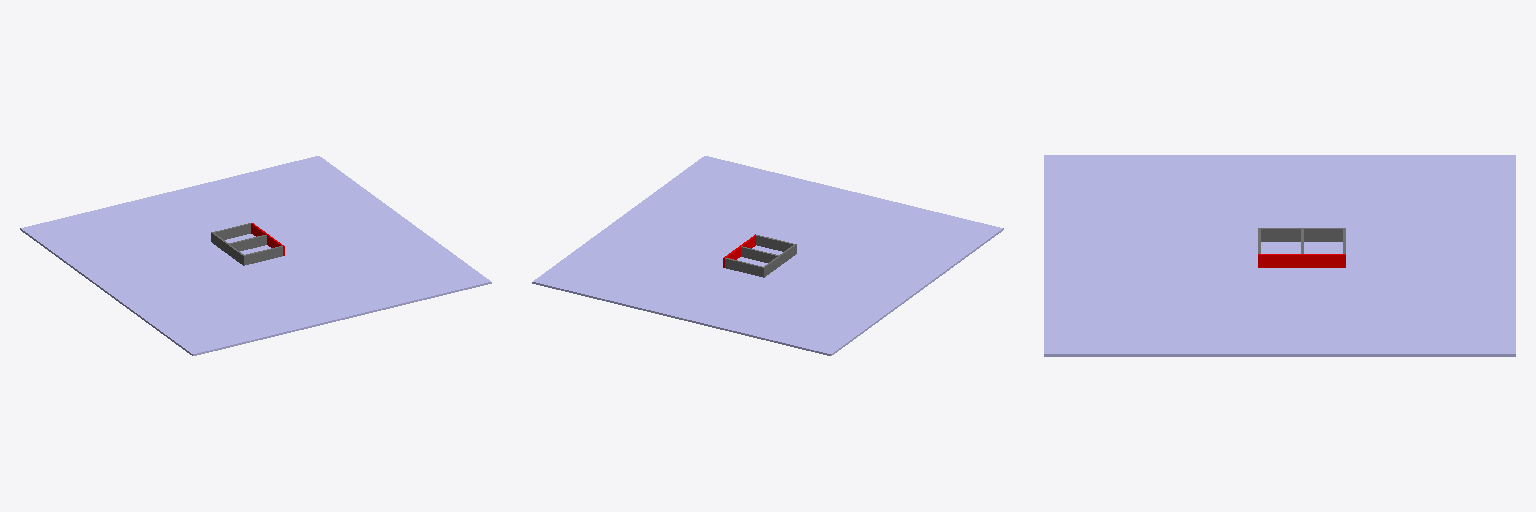
robot.urdf — move_twice:
<?xml version="1.0"?>
<!-- created with Phobos 1.0.1 "Capricious Choutengan" -->
  <robot name="move_twice">

    <link name="base_link">
      <inertial>
        <origin xyz="0 0 0" rpy="0 0 0"/>
        <mass value="0.001"/>
        <inertia ixx="0.001" ixy="0" ixz="0" iyy="0.001" iyz="0" izz="0.001"/>
      </inertial>
      <visual name="visual_box_base">
        <origin xyz="0 0 0" rpy="0 0 0"/>
        <geometry>
          <box size="31.999 31.999 0.199"/>
        </geometry>
        <material name="lavender"/>
      </visual>
      <collision name="collision_box_base">
        <origin xyz="0 0 0" rpy="0 0 0"/>
        <geometry>
          <box size="31.999 31.999 0.199"/>
        </geometry>
      </collision>
    </link>

    <link name="goal">
      <inertial>
        <origin xyz="0 0 0" rpy="0 0 0"/>
        <mass value="0.001"/>
        <inertia ixx="0.001" ixy="0" ixz="0" iyy="0.001" iyz="0" izz="0.001"/>
      </inertial>
    </link>

    <link name="link_0_joint_0">
      <inertial>
        <origin xyz="0 0 0" rpy="0 0 0"/>
        <mass value="0.001"/>
        <inertia ixx="0.001" ixy="0" ixz="0" iyy="0.001" iyz="0" izz="0.001"/>
      </inertial>
      <visual name="visual_mesh_2_link_0">
        <origin xyz="0 0 0" rpy="0 0 0"/>
        <geometry>
          <mesh filename="file://[local-path]/ba/puzzle-generator/puzzles/move_twice/meshes/stl/robot.stl" scale="1.0 1.0 1.0"/>
        </geometry>
        <material name="green"/>
      </visual>
      <collision name="collision_mesh_2_link_0">
        <origin xyz="0 0 0" rpy="0 0 0"/>
        <geometry>
          <mesh filename="file://[local-path]/ba/puzzle-generator/puzzles/move_twice/meshes/stl/robot.001.stl" scale="1.0 1.0 1.0"/>
        </geometry>
      </collision>
    </link>

    <link name="link_0_joint_0.001">
      <inertial>
        <origin xyz="0 0 0" rpy="0 0 0"/>
        <mass value="0.001"/>
        <inertia ixx="0.001" ixy="0" ixz="0" iyy="0.001" iyz="0" izz="0.001"/>
      </inertial>
      <visual name="visual_mesh_2_link_0.001">
        <origin xyz="0 0 0" rpy="0 0 0"/>
        <geometry>
          <mesh filename="file://[local-path]/ba/puzzle-generator/puzzles/move_twice/meshes/stl/robot.002.stl" scale="1.0 1.0 1.0"/>
        </geometry>
        <material name="green_translucent"/>
      </visual>
    </link>

    <link name="link_0_joint_1">
      <inertial>
        <origin xyz="0 0 0" rpy="0 0 0"/>
        <mass value="0.001"/>
        <inertia ixx="0.001" ixy="0" ixz="0" iyy="0.001" iyz="0" izz="0.001"/>
      </inertial>
    </link>

    <link name="link_0_joint_1.001">
      <inertial>
        <origin xyz="0 0 0" rpy="0 0 0"/>
        <mass value="0.001"/>
        <inertia ixx="0.001" ixy="0" ixz="0" iyy="0.001" iyz="0" izz="0.001"/>
      </inertial>
    </link>

    <link name="link_0_joint_2">
      <inertial>
        <origin xyz="0 0 0" rpy="0 0 0"/>
        <mass value="0.001"/>
        <inertia ixx="0.001" ixy="0" ixz="0" iyy="0.001" iyz="0" izz="0.001"/>
      </inertial>
    </link>

    <link name="link_1_joint_0">
      <inertial>
        <origin xyz="0 0 0" rpy="0 0 0"/>
        <mass value="0.001"/>
        <inertia ixx="0.001" ixy="0" ixz="0" iyy="0.001" iyz="0" izz="0.001"/>
      </inertial>
      <visual name="visual_box_7_link_1">
        <origin xyz="0 0 0" rpy="0 0 0"/>
        <geometry>
          <box size="0.199 5.999 0.999"/>
        </geometry>
        <material name="red"/>
      </visual>
      <collision name="collision_box_7_link_1">
        <origin xyz="0 0 0" rpy="0 0 0"/>
        <geometry>
          <box size="0.199 5.999 0.999"/>
        </geometry>
      </collision>
    </link>

    <link name="link_3_fixed_wall_left">
      <inertial>
        <origin xyz="0 0 0" rpy="0 0 0"/>
        <mass value="0.001"/>
        <inertia ixx="0.001" ixy="0" ixz="0" iyy="0.001" iyz="0" izz="0.001"/>
      </inertial>
      <visual name="visual_box_3_fixed_wall_left">
        <origin xyz="0 0 0" rpy="0 0 0"/>
        <geometry>
          <box size="3.999 0.199 0.999"/>
        </geometry>
        <material name="gray"/>
      </visual>
      <collision name="collision_box_3_fixed_wall_left">
        <origin xyz="0 0 0" rpy="0 0 0"/>
        <geometry>
          <box size="3.999 0.199 0.999"/>
        </geometry>
      </collision>
    </link>

    <link name="link_4_fixed_wall_right">
      <inertial>
        <origin xyz="0 0 0" rpy="0 0 0"/>
        <mass value="0.001"/>
        <inertia ixx="0.001" ixy="0" ixz="0" iyy="0.001" iyz="0" izz="0.001"/>
      </inertial>
      <visual name="visual_box_4_fixed_wall_right">
        <origin xyz="0 0 0" rpy="0 0 0"/>
        <geometry>
          <box size="3.999 0.199 0.999"/>
        </geometry>
        <material name="gray"/>
      </visual>
      <collision name="collision_box_4_fixed_wall_right">
        <origin xyz="0 0 0" rpy="0 0 0"/>
        <geometry>
          <box size="3.999 0.199 0.999"/>
        </geometry>
      </collision>
    </link>

    <link name="link_5_fixed_wall_mid">
      <inertial>
        <origin xyz="0 0 0" rpy="0 0 0"/>
        <mass value="0.001"/>
        <inertia ixx="0.001" ixy="0" ixz="0" iyy="0.001" iyz="0" izz="0.001"/>
      </inertial>
      <visual name="visual_box_5_fixed_wall_mid">
        <origin xyz="0 0 0" rpy="0 0 0"/>
        <geometry>
          <box size="3.999 0.199 0.999"/>
        </geometry>
        <material name="gray"/>
      </visual>
      <collision name="collision_box_5_fixed_wall_mid">
        <origin xyz="0 0 0" rpy="0 0 0"/>
        <geometry>
          <box size="3.999 0.199 0.999"/>
        </geometry>
      </collision>
    </link>

    <link name="link_6_fixed_wall_back">
      <inertial>
        <origin xyz="0 0 0" rpy="0 0 0"/>
        <mass value="0.001"/>
        <inertia ixx="0.001" ixy="0" ixz="0" iyy="0.001" iyz="0" izz="0.001"/>
      </inertial>
      <visual name="visual_box_6_fixed_wall_back">
        <origin xyz="0 0 0" rpy="0 0 0"/>
        <geometry>
          <box size="0.199 5.999 0.999"/>
        </geometry>
        <material name="gray"/>
      </visual>
      <collision name="collision_box_6_fixed_wall_back">
        <origin xyz="0 0 0" rpy="0 0 0"/>
        <geometry>
          <box size="0.199 5.999 0.999"/>
        </geometry>
      </collision>
    </link>

    <joint name="goal" type="fixed">
      <origin xyz="1.03327 3.36114 0.6" rpy="0 0 -0.49906"/>
      <parent link="base_link"/>
      <child link="goal"/>
      <limit effort="0" velocity="0"/>
    </joint>

    <joint name="link_0_joint_0" type="revolute">
      <origin xyz="0 0 0" rpy="0 0 0"/>
      <parent link="link_0_joint_1"/>
      <child link="link_0_joint_0"/>
      <axis xyz="0 0 1.0"/>
      <limit lower="-3.14159" upper="3.14159" effort="0" velocity="0"/>
    </joint>

    <joint name="link_0_joint_0.001" type="fixed">
      <origin xyz="0 0 0" rpy="0 0 0"/>
      <parent link="link_0_joint_1.001"/>
      <child link="link_0_joint_0.001"/>
      <limit effort="0" velocity="0"/>
    </joint>

    <joint name="link_0_joint_1" type="prismatic">
      <origin xyz="0 0 0" rpy="0 0 0"/>
      <parent link="link_0_joint_2"/>
      <child link="link_0_joint_1"/>
      <axis xyz="0 1.0 0"/>
      <limit lower="-16.0" upper="16.0" effort="0" velocity="0"/>
    </joint>

    <joint name="link_0_joint_1.001" type="fixed">
      <origin xyz="0 0 0" rpy="0 0 0"/>
      <parent link="goal"/>
      <child link="link_0_joint_1.001"/>
      <limit effort="0" velocity="0"/>
    </joint>

    <joint name="link_0_joint_2" type="prismatic">
      <origin xyz="0 0 0.6" rpy="0 0 0"/>
      <parent link="base_link"/>
      <child link="link_0_joint_2"/>
      <axis xyz="1.0 0 0"/>
      <limit lower="-16.0" upper="16.0" effort="0" velocity="0"/>
    </joint>

    <joint name="link_1_joint_0" type="prismatic">
      <origin xyz="2.1 1.5 0.6" rpy="0 0 0"/>
      <parent link="base_link"/>
      <child link="link_1_joint_0"/>
      <axis xyz="0 1.0 0"/>
      <limit lower="-3.0" upper="3.0" effort="0" velocity="0"/>
    </joint>

    <joint name="link_3_fixed_wall_left" type="fixed">
      <origin xyz="0 -1.4 0.6" rpy="0 0 0"/>
      <parent link="base_link"/>
      <child link="link_3_fixed_wall_left"/>
    </joint>

    <joint name="link_4_fixed_wall_right" type="fixed">
      <origin xyz="0 4.4 0.6" rpy="0 0 0"/>
      <parent link="base_link"/>
      <child link="link_4_fixed_wall_right"/>
    </joint>

    <joint name="link_5_fixed_wall_mid" type="fixed">
      <origin xyz="0 1.5 0.6" rpy="0 0 0"/>
      <parent link="base_link"/>
      <child link="link_5_fixed_wall_mid"/>
    </joint>

    <joint name="link_6_fixed_wall_back" type="fixed">
      <origin xyz="-2.1 1.5 0.6" rpy="0 0 0"/>
      <parent link="base_link"/>
      <child link="link_6_fixed_wall_back"/>
    </joint>

    <material name="gray">
      <color rgba="0.5 0.5 0.5 1.0"/>
    </material>

    <material name="green">
      <color rgba="0 1.0 0 1.0"/>
    </material>

    <material name="green_translucent">
      <color rgba="0 1.0 0 0.25"/>
    </material>

    <material name="lavender">
      <color rgba="0.8 0.8 1.0 1.0"/>
    </material>

    <material name="red">
      <color rgba="1.0 0 0 1.0"/>
    </material>

  </robot>

--- Render facts (derived) ---
3 views of the same robot in one strip: view 1: azimuth 30°, elevation 25°; view 2: azimuth 150°, elevation 25°; view 3: azimuth 270°, elevation 25° (orthographic).
Robot: move_twice — 12 links, 11 joints (1 revolute, 3 prismatic, 7 fixed); root link base_link; default pose: every joint at zero.
Links seen in each view (by area): view 1: base_link; view 2: base_link; view 3: base_link, link_1_joint_0, link_6_fixed_wall_back.
Boxes of the visible links, x1,y1,x2,y2 form: base_link: (20, 156, 491, 355); base_link: (532, 156, 1003, 355); base_link: (1044, 155, 1515, 356); link_1_joint_0: (1258, 254, 1345, 267); link_6_fixed_wall_back: (1258, 228, 1345, 241).
Size in the robot's own frame: 32 by 32 by 1.2 metres.
Geometry: only primitive shapes (box / cylinder / sphere) drawn; not drawn: 2 mesh visuals (reference in a form the renderer does not follow).